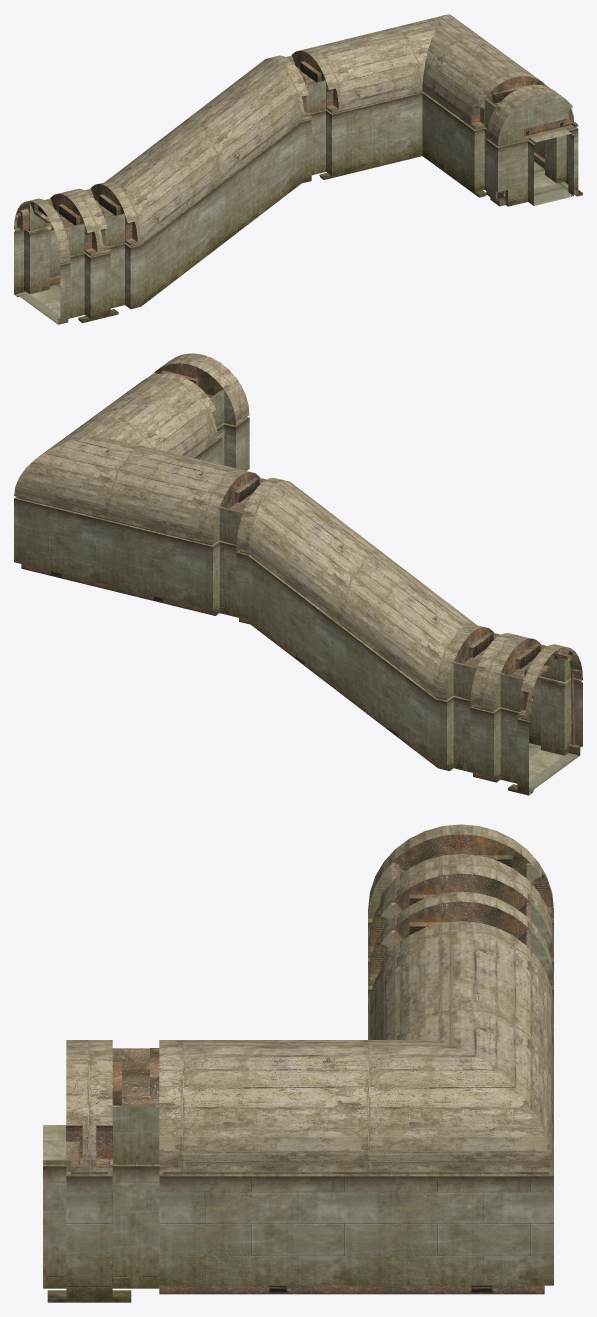
File: poi_all_bunker_mad_bio_s01_r26_hall7_mesh_r26.fbx
3 renders of one model, top to bottom at view 1: azimuth 30°, elevation 25°; view 2: azimuth 150°, elevation 25°; view 3: azimuth 270°, elevation 25°, orthographic. The views are drawn at different scales.
Parts seen in each view (by area): view 1: mesh_node; view 2: mesh_node; view 3: mesh_node.
Part boxes in pixels (x1,y1,x2,y2): mesh_node: (14, 14, 582, 324); mesh_node: (14, 353, 582, 795); mesh_node: (43, 824, 553, 1302).
Size of the model in its own units: 22 by 9.1 by 11.
